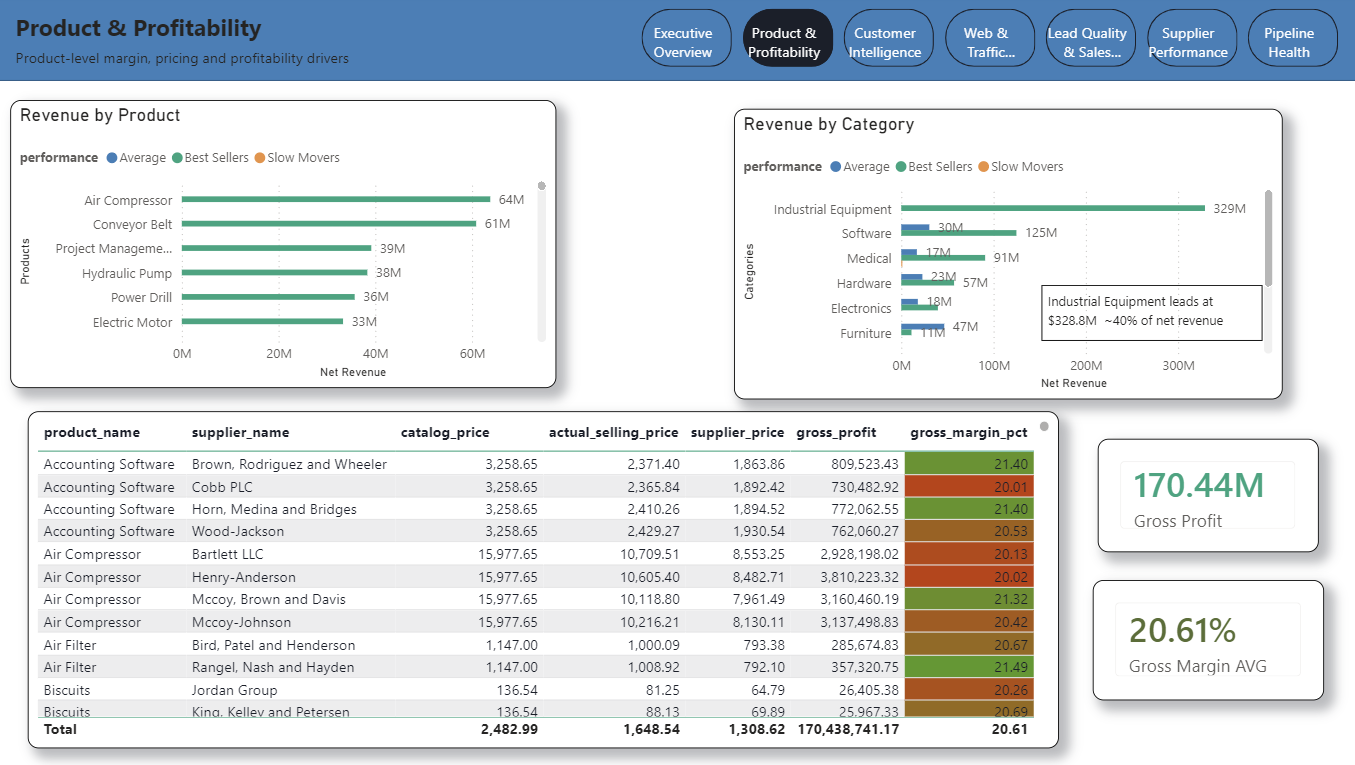

What the dashboard file says about the page in this screenshot:
{"tool":"powerbi","page":{"name":"Product & Profitability","canvas":[1280,720],"ordinal":1},"visuals":[{"type":"clusteredBarChart","title":"Revenue by Product","fields":{"Category":["marts vw_revenue_by_product.product_name"],"Series":["marts vw_revenue_by_product.performance"],"Y":["Sum(marts vw_revenue_by_product.net_revenue)"]},"box":[24.4,97.7,507.7,267.9],"z":0},{"type":"shape","box":[0,0,1280,80],"z":1000},{"type":"clusteredBarChart","title":"Revenue by Category","fields":{"Category":["marts vw_revenue_by_product.category_name"],"Series":["marts vw_revenue_by_product.performance"],"Y":["Sum(marts vw_revenue_by_product.net_revenue)"]},"box":[697.7,105.8,510.3,270.5],"z":2000},{"type":"tableEx","title":"Gross Margin Analysis - Product & Supplier","fields":{"Values":["marts vw_gross_margin_analysis.product_name","marts vw_gross_margin_analysis.supplier_name","Average(marts vw_gross_margin_analysis.catalog_price)","Average(marts vw_gross_margin_analysis.actual_selling_price)","Average(marts vw_gross_margin_analysis.supplier_price)","Sum(marts vw_gross_margin_analysis.gross_profit)","Average(marts vw_gross_margin_analysis.gross_margin_pct)"]},"box":[40.7,387.2,959.3,314],"z":3000},{"type":"cardVisual","fields":{"Data":["Sum(marts vw_gross_margin_analysis.gross_profit)"]},"box":[1036,412.8,205.8,105.8],"z":4000},{"type":"cardVisual","fields":{"Data":["Average(marts vw_gross_margin_analysis.gross_margin_pct)"]},"box":[1031.4,544.2,215.1,111.6],"z":5000},{"type":"textbox","box":[24,10,550,32],"z":6000},{"type":"textbox","box":[24.4,44.2,550,36],"z":7000},{"type":"pageNavigator","box":[611.6,12.8,648.8,54.7],"z":8000},{"type":"textbox","box":[983.7,269.8,205.8,52.3],"z":13000}]}

Visuals, with their boxes in screenshot pixels (x1, y1, x2, y2), scaled from the page's 1280x720 canvas onto the 1355x765 screenshot:
"Revenue by Product" clusteredBarChart: bbox(26, 104, 563, 388)
shape: bbox(0, 0, 1354, 85)
"Revenue by Category" clusteredBarChart: bbox(739, 112, 1279, 400)
"Gross Margin Analysis - Product & Supplier" tableEx: bbox(43, 411, 1059, 745)
cardVisual - Sum(marts vw_gross_margin_analysis.gross_profit): bbox(1097, 439, 1315, 551)
cardVisual - Average(marts vw_gross_margin_analysis.gross_margin_pct): bbox(1092, 578, 1320, 697)
textbox: bbox(25, 11, 608, 45)
textbox: bbox(26, 47, 608, 85)
pageNavigator: bbox(647, 14, 1334, 72)
textbox: bbox(1041, 287, 1259, 342)
